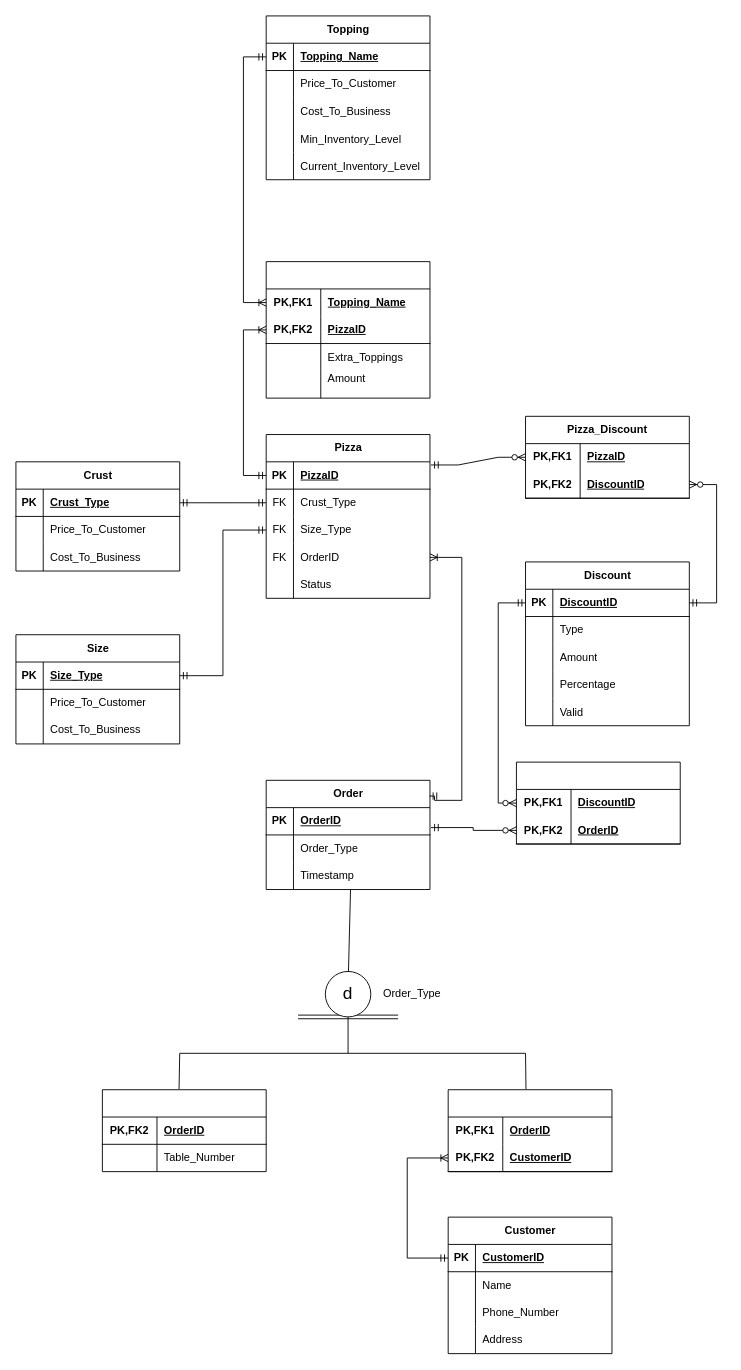
The diagram is 741 pixels wide and 1370 high, and some of its shapes have lost their labels. The shapes that lost their labels are listed below. From the top down, each one's box as (x1, y1, x2, y2) in pixels, then its label:
(265, 261, 430, 398): Pizza_Topping
(516, 761, 680, 844): Order_Discount
(101, 1089, 266, 1172): Dine_IN
(447, 1089, 612, 1172): Dine_Out
